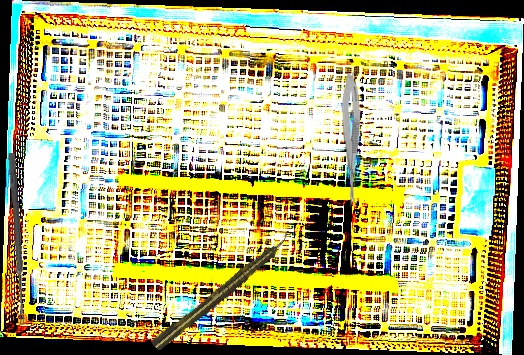Handpiece: (149, 231, 295, 353)
Micro Scissor: (340, 72, 364, 209)
Surgical Spoon: (7, 152, 27, 326)
